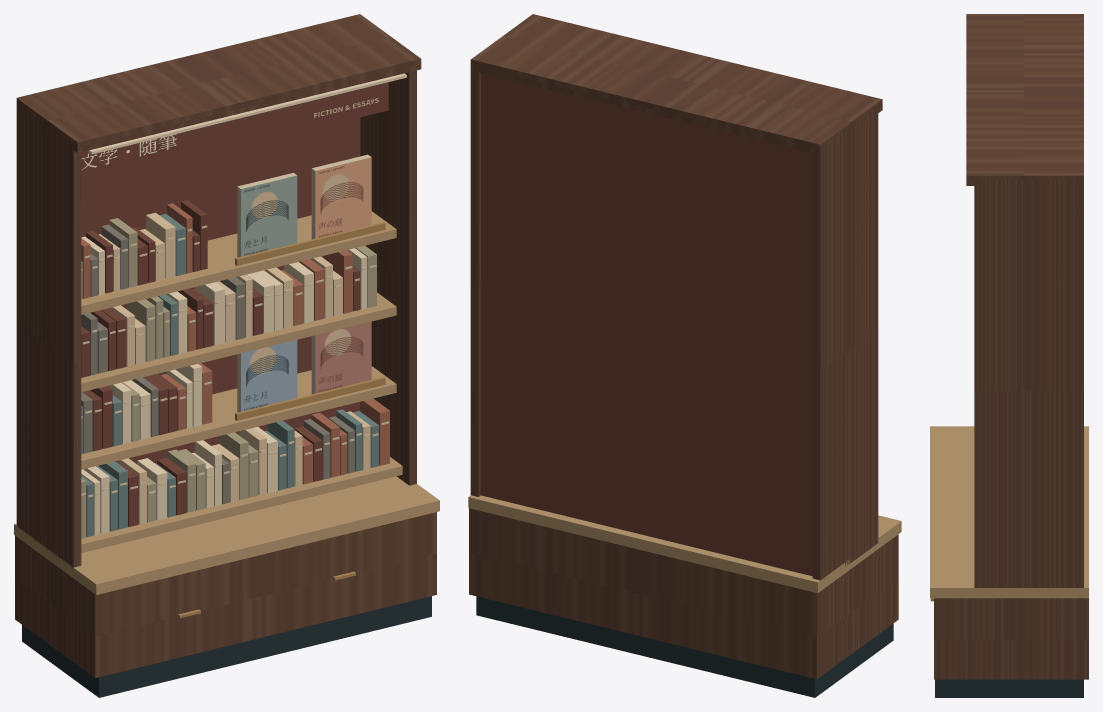
File: orienne_press_1.glb
The picture shows the model from 3 angles, left to right: view 1: azimuth 30°, elevation 25°; view 2: azimuth 150°, elevation 25°; view 3: azimuth 270°, elevation 25°; orthographic projection. The views are drawn at different scales.
Size of the model in its own units: 1.95 by 2.95 by 0.81.
Materials: 1 (1 with a texture image).
